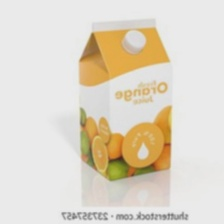carton: (64, 11, 177, 183)
